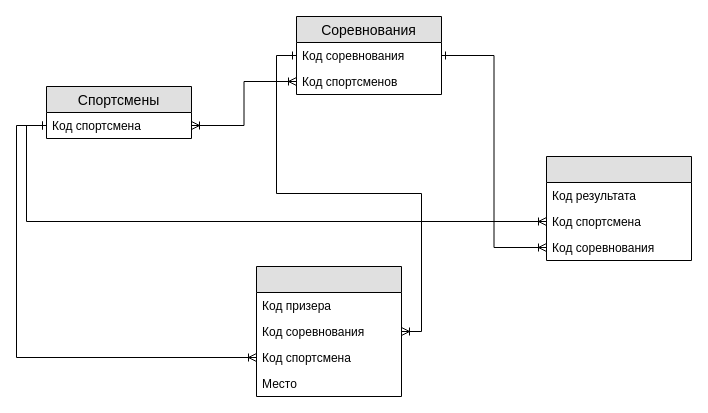
Image size: 708x413. Some labels were removed from this diagram. Each missing label, with the box of its shape:
Результаты: (546, 156, 692, 260)
Список призеров: (256, 266, 402, 396)
